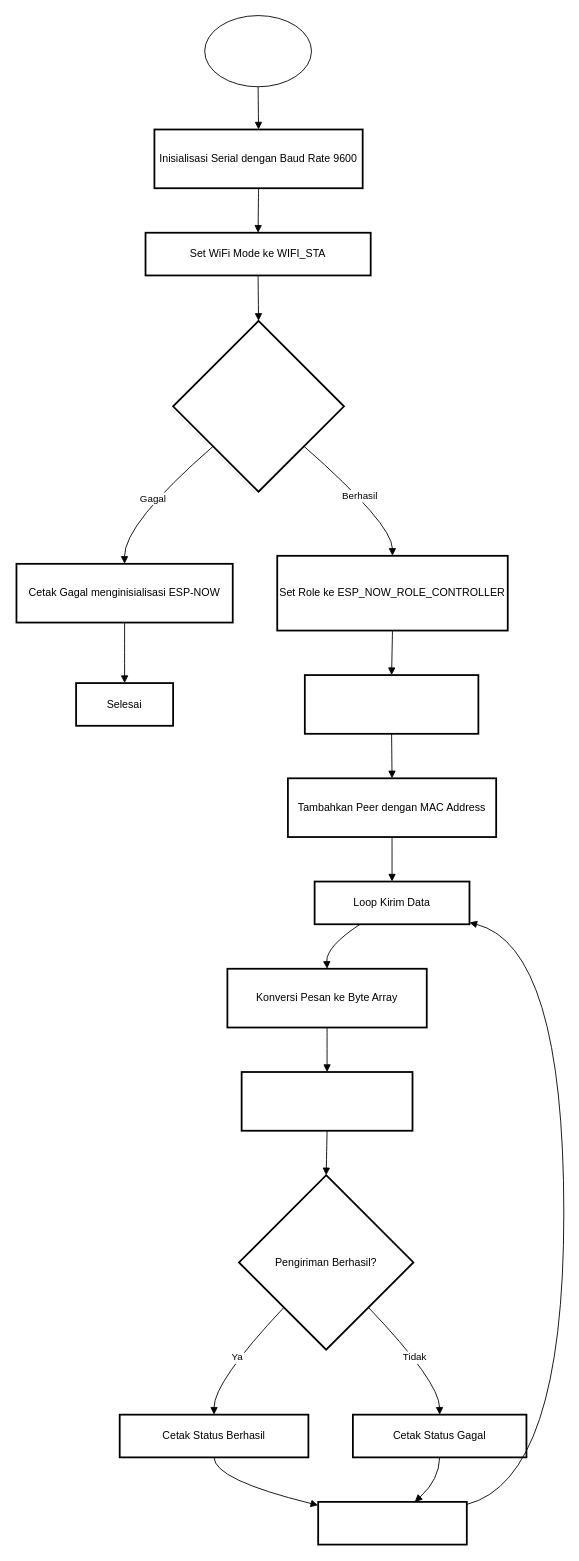
Image size: 579x1561. Some labels were removed from this diagram. The shapes that lost their labels are listed below. From the top down, each one's centre as x and y in pixels, then its label:
point (258, 51): Mulai
point (258, 406): Inisialisasi ESP-NOW
point (391, 704): Registrasi Callback onDataSent
point (326, 1101): Kirim Data dengan esp_now_send
point (392, 1523): Tunggu 2 Detik
